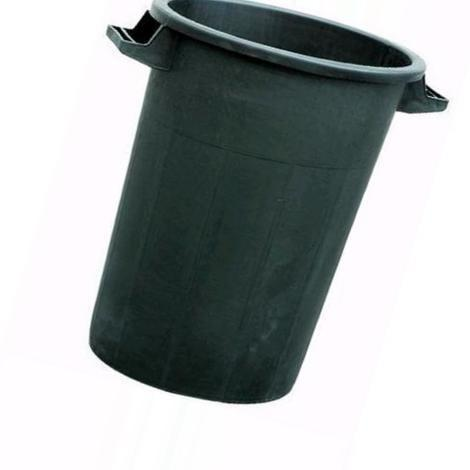Bote de Basura: (93, 5, 440, 414)
